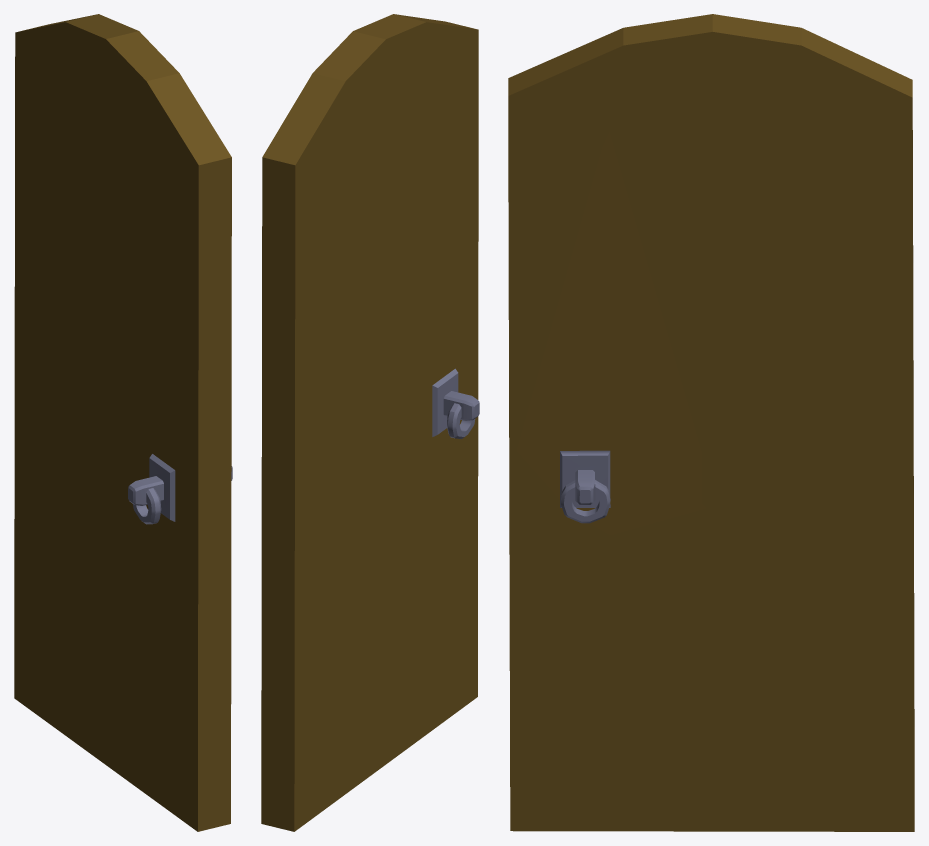
Rendered from ArchDoor.fbx.
3 renders of one model, left to right at view 1: azimuth 30°, elevation 25°; view 2: azimuth 150°, elevation 25°; view 3: azimuth 270°, elevation 25°, orthographic. The views are drawn at different scales.
Parts seen in each view (by area): view 1: polySurface86; view 2: polySurface86; view 3: polySurface86.
Boxes of the visible parts, x1,y1,x2,y2 form: polySurface86: (14,14,232,831); polySurface86: (261,14,479,831); polySurface86: (508,14,914,831).
Size of the model in its own units: 0.3176 by 2.21 by 1.02.
